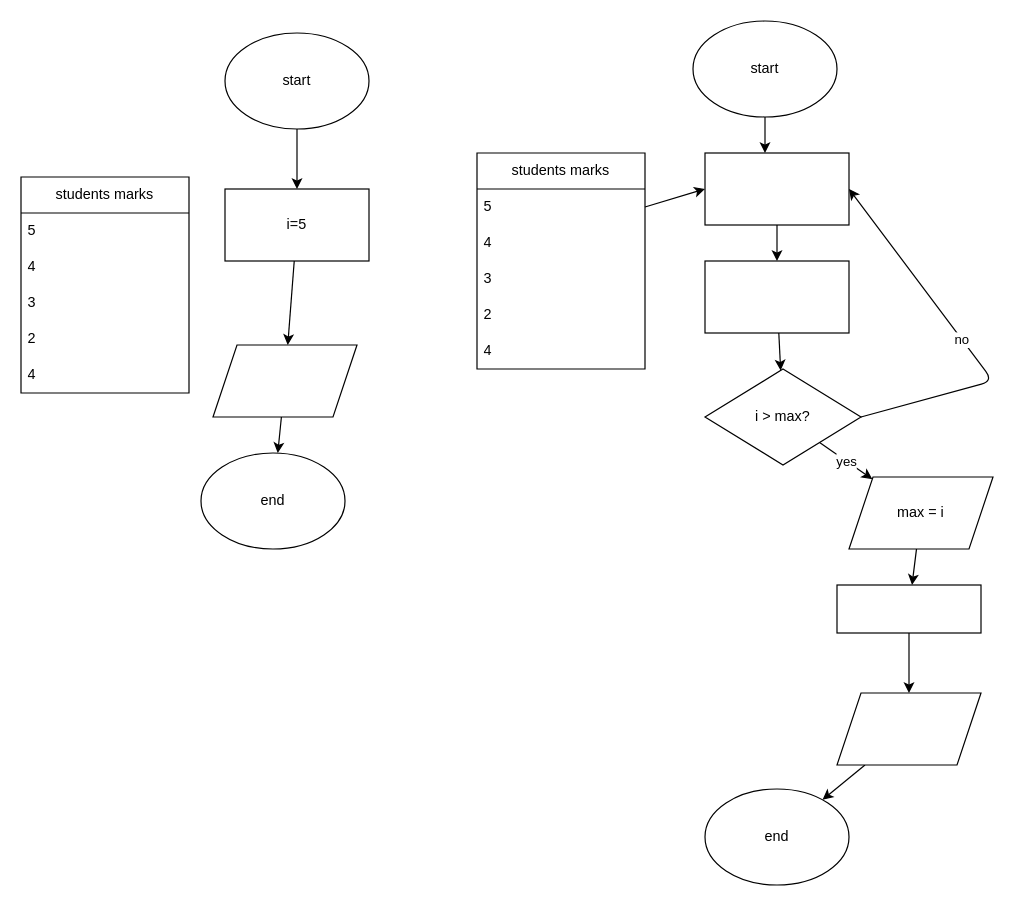
This 1024x906 diagram has some shape labels left out. The centre of each missing label's shape, as x and y in pixels:
"i = 4" belongs at (908,608).
"i = marks[i]" belongs at (776,188).
"max=0" belongs at (776,296).
"output: i" belongs at (284,380).
"output: max" belongs at (908,728).
